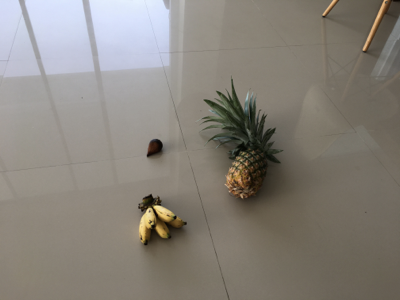banana: (137, 194, 188, 248)
pineapple: (200, 78, 284, 199)
snake fruit: (146, 139, 165, 160)
